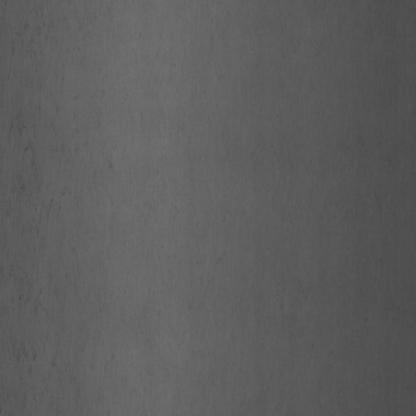silk_spot: (6, 64, 80, 357)
